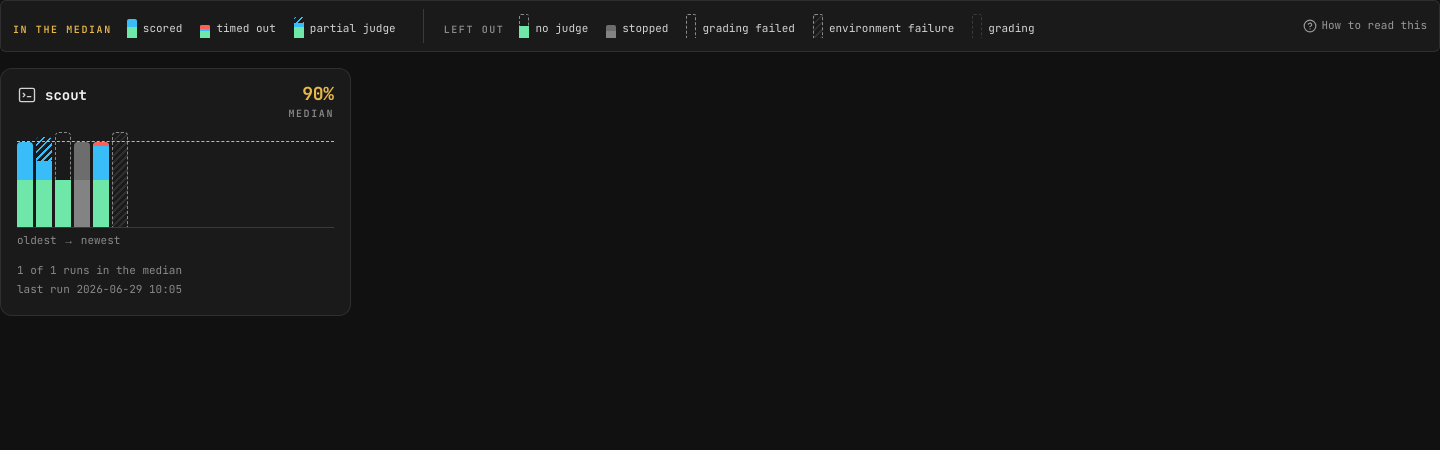
Test: CompletedRuns: one card per agent, around its run strip › opens the inspector on a column and lights up its kind in the key
The width and height of the screenshot is (1440, 450).
Hover over the 5th link with test id "strip-column" at (101, 180), box [93,132,109,227]
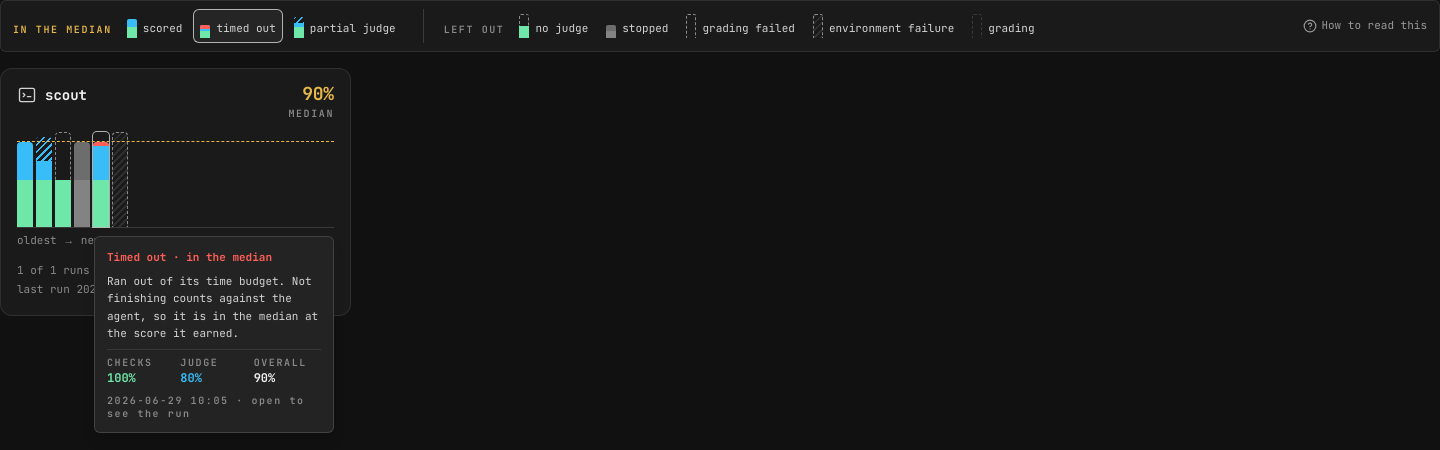
Now the element with test id "run-inspector" shows "Timed out · in the median", box [107,250,272,264]
Now the element with test id "run-inspector" shows "Not finishing counts against the agent", box [107,274,318,340]
Move the pointer off the 5th link with test id "strip-column", box [93,132,109,227]
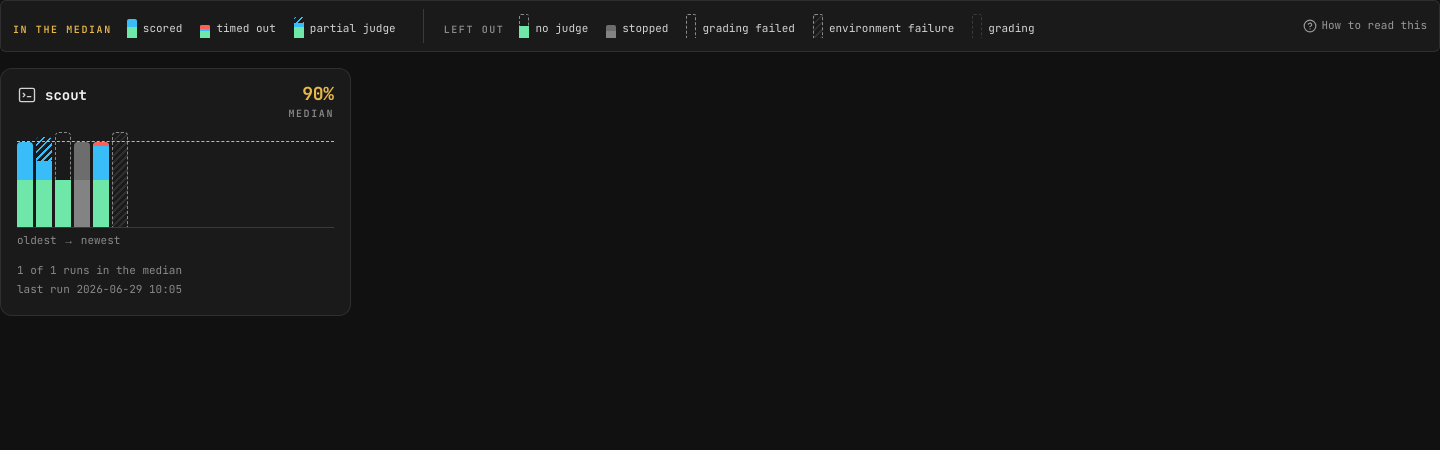
Now the element with test id "run-inspector" is gone
